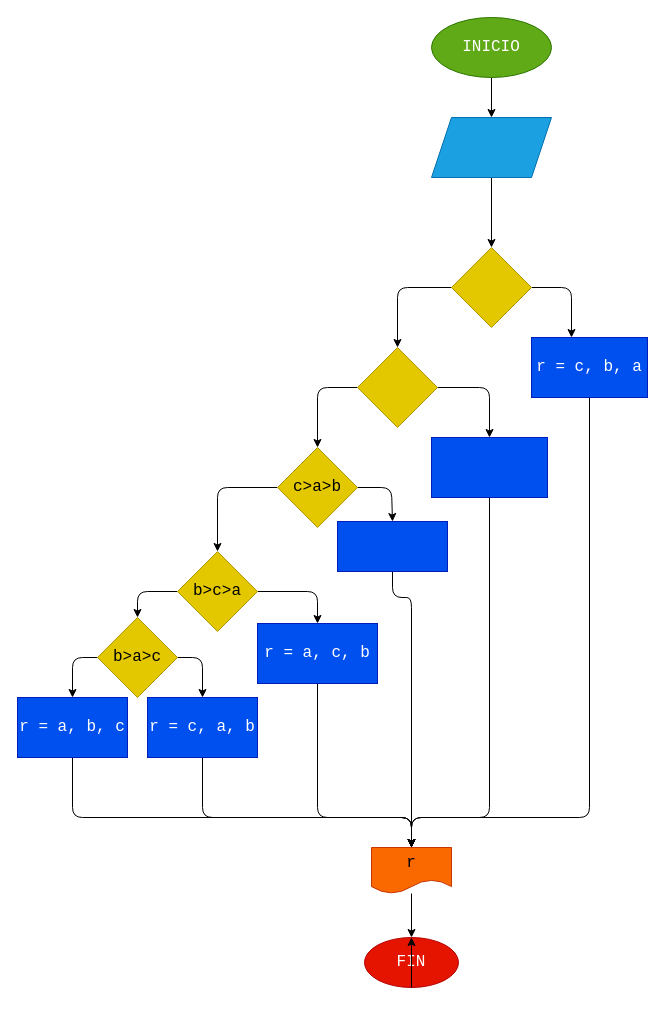
Image size: 665x1013. Some labels were removed from this diagram. Each missing label, with the centre of its shape:
a,b,c: point (491, 147)
a>b>c: point (491, 287)
a>c>b: point (397, 387)
r = b, a, c: point (392, 546)
r = b, c, a: point (489, 467)
